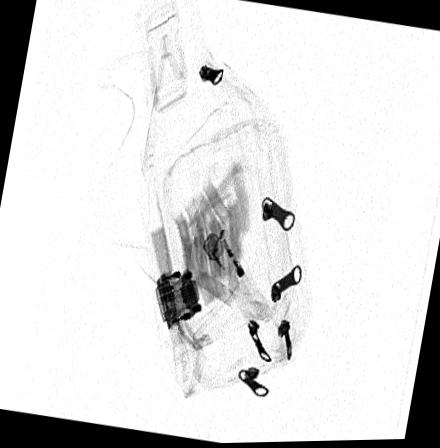Lighter: (201, 223, 274, 332)
